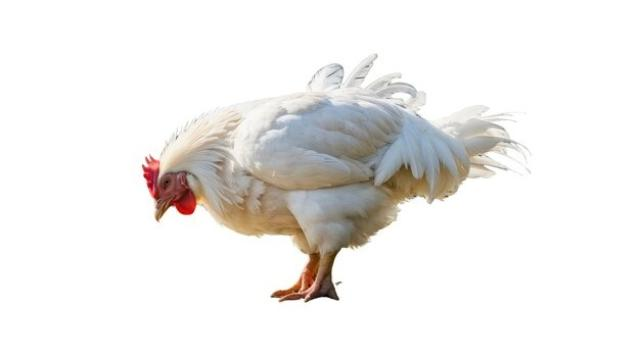Chicken: (142, 53, 532, 301)
